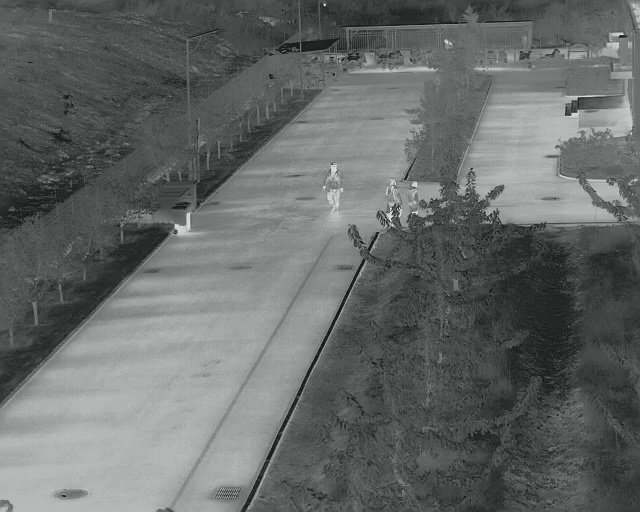person: (323, 161, 345, 214), (385, 177, 403, 211), (406, 180, 419, 215)
